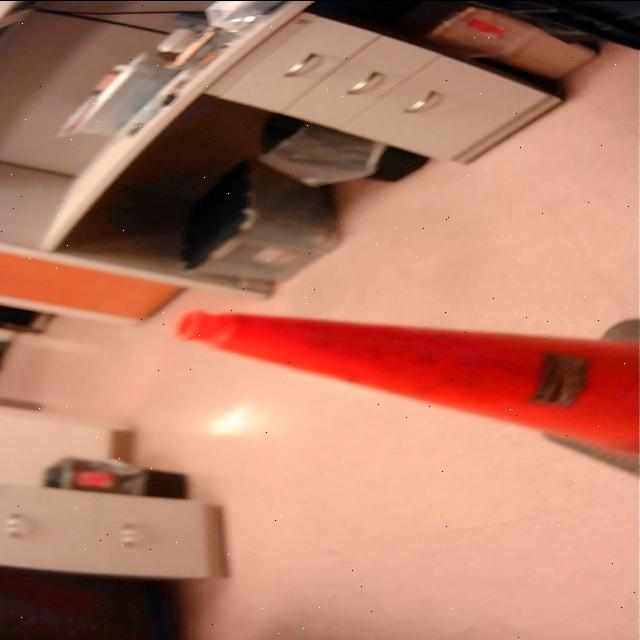traffic cone: (161, 305, 640, 485)
